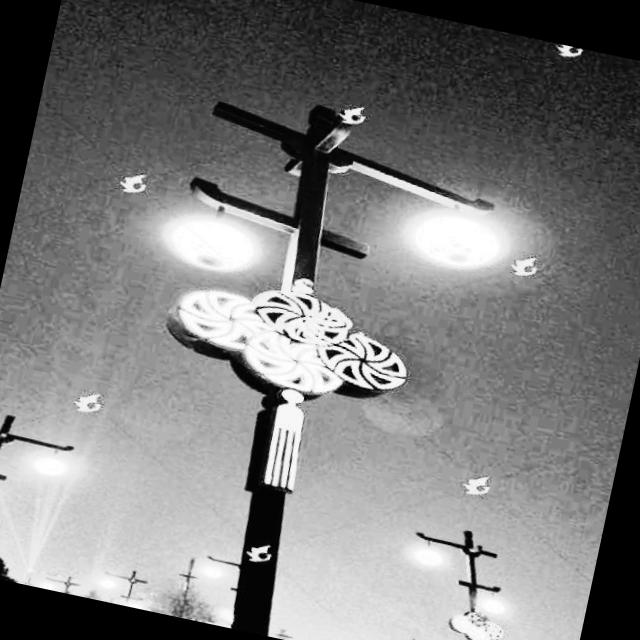Light: (99, 159, 497, 640)
